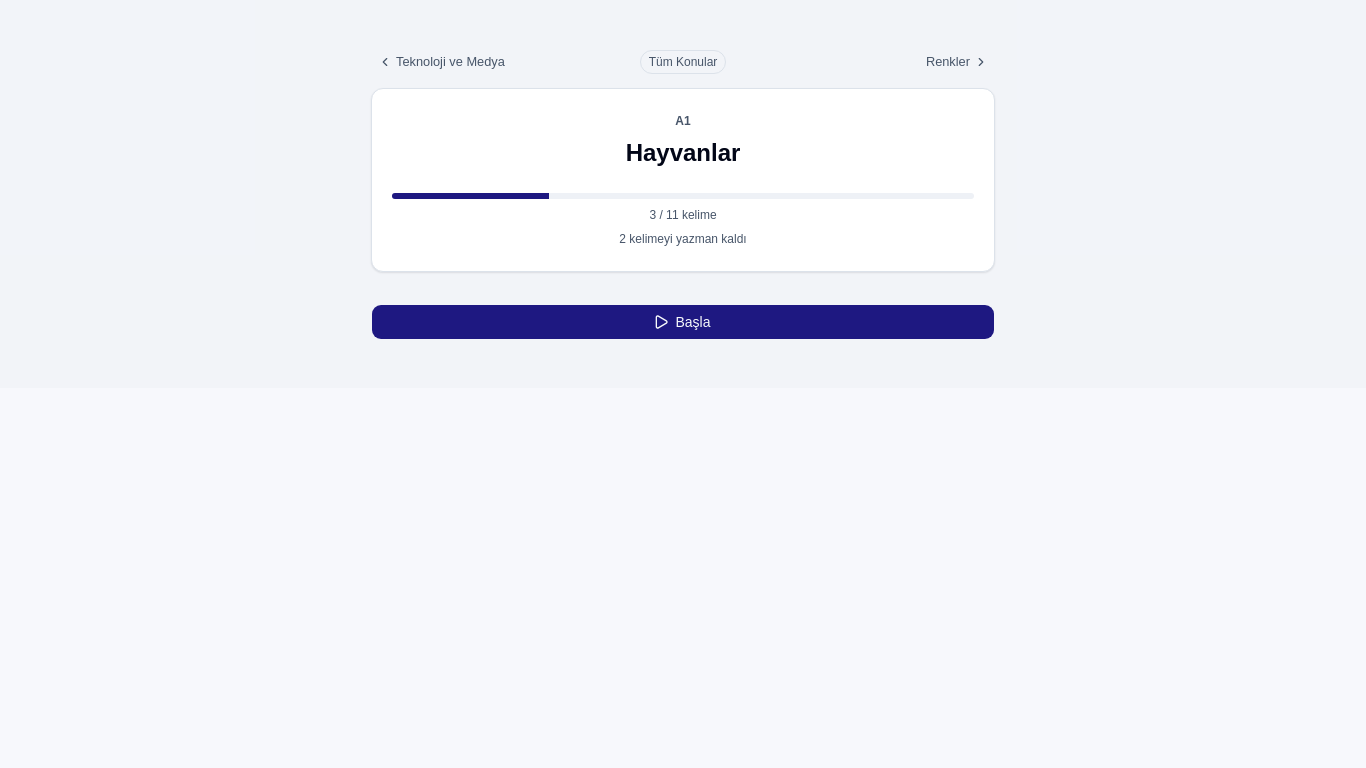
Test: StudyHomePage › shows every topic in a scrollable catalog without pagination
The image size is (1366, 768).
Click the button "Tüm Konular": (683, 62) x1=640 y1=50 x2=726 y2=74
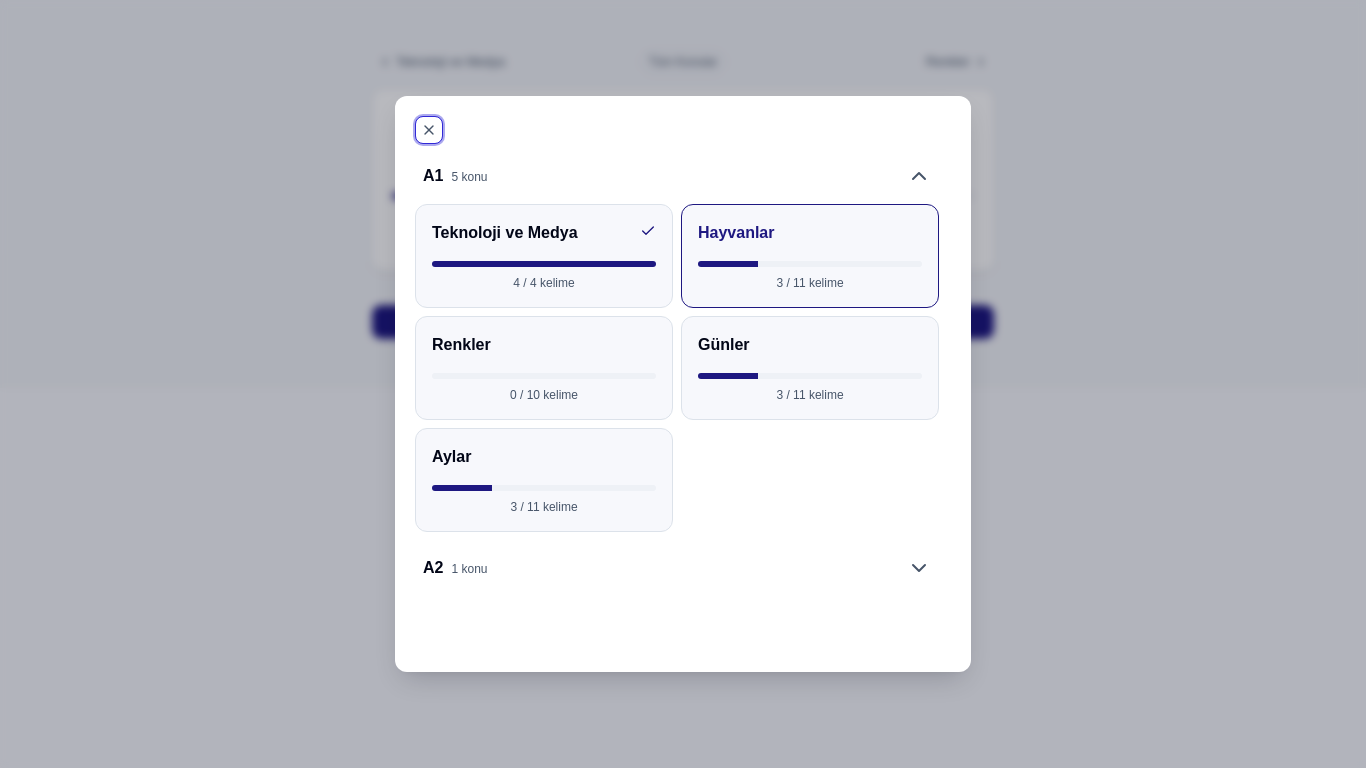
Check: the number of list items is 5, box x1=415 y1=204 x2=673 y2=308; x1=681 y1=204 x2=939 y2=308; x1=415 y1=316 x2=673 y2=420; x1=681 y1=316 x2=939 y2=420; x1=415 y1=428 x2=673 y2=532
Check: the button "Günler 3 / 11 kelime" is shown, box x1=681 y1=316 x2=939 y2=420
Check: the button "Aylar 3 / 11 kelime" is shown, box x1=415 y1=428 x2=673 y2=532
